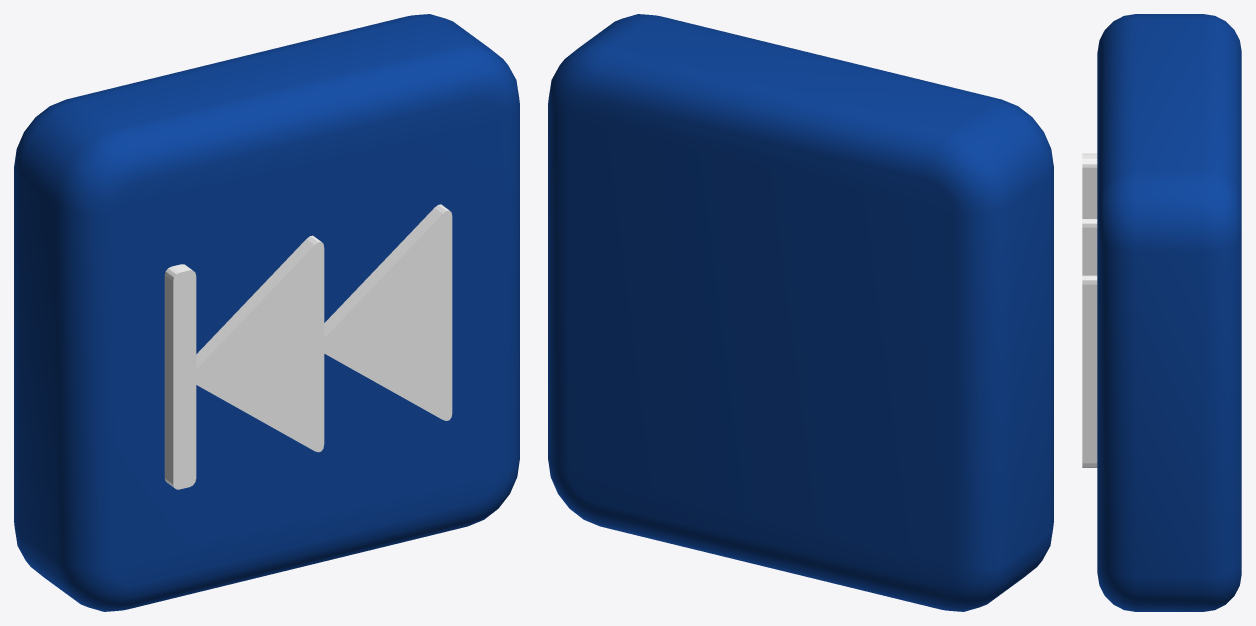
The model's file is last_track_button.glb.
The picture shows the model from 3 angles, left to right: view 1: azimuth 30°, elevation 25°; view 2: azimuth 150°, elevation 25°; view 3: azimuth 270°, elevation 25°; orthographic projection. The views are drawn at different scales.
Parts seen in each view (by area): view 1: Cube.6425; view 2: Cube.6425; view 3: Cube.6425.
Boxes of the visible parts, box(x1,y1,x2,y2) form: Cube.6425: box(14, 14, 519, 611); Cube.6425: box(548, 14, 1053, 611); Cube.6425: box(1082, 14, 1241, 611).
Bounding box in the file's own units: 2.2 × 2.2 × 0.73.
1 material, 1 textured.
